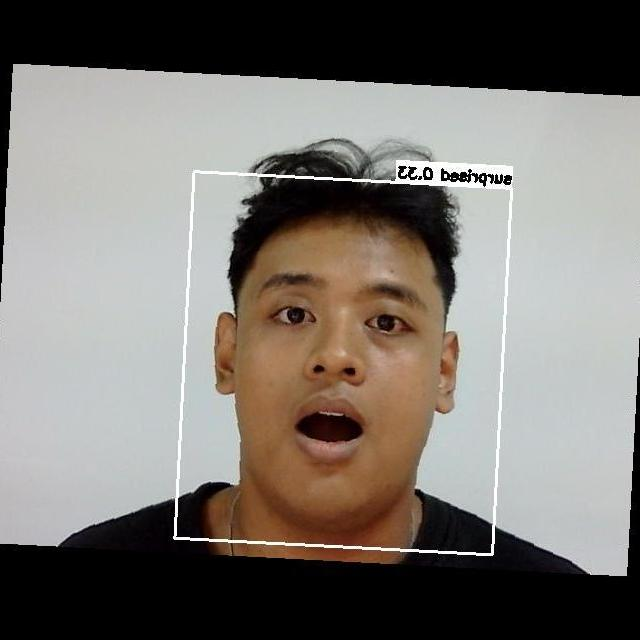Surprised: (234, 253, 449, 492)
